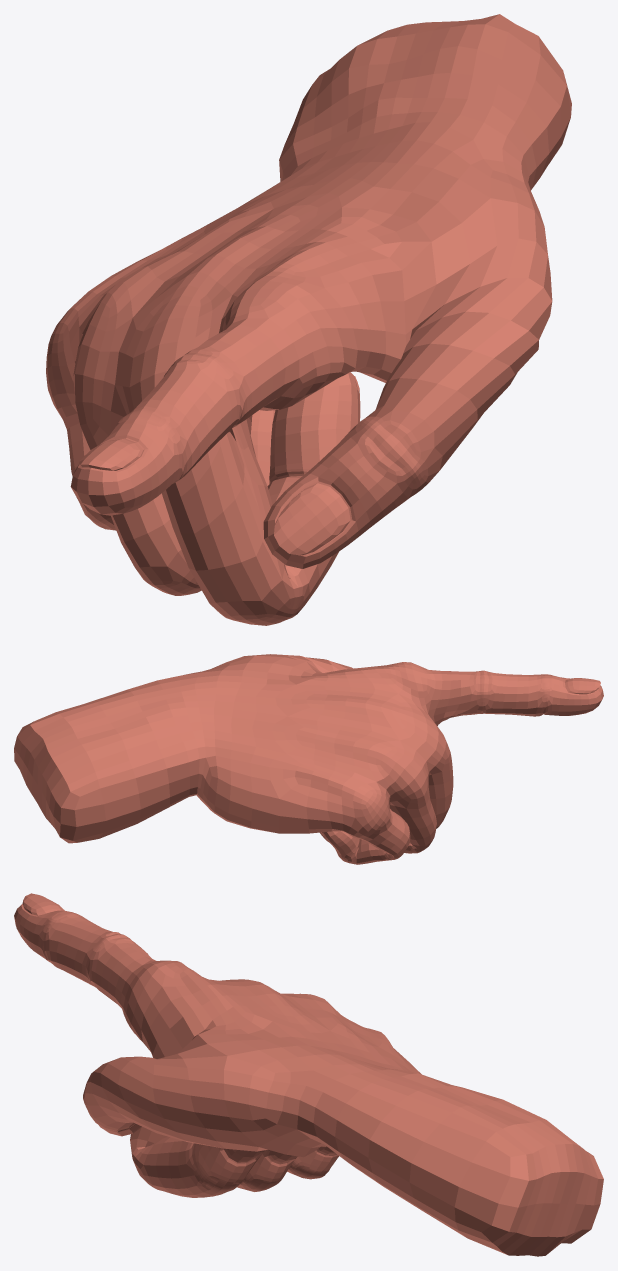
Rendered from zah.glb.
3 renders of one model, top to bottom at view 1: azimuth 30°, elevation 25°; view 2: azimuth 150°, elevation 25°; view 3: azimuth 270°, elevation 25°, orthographic. The views are drawn at different scales.
Visible parts, largest first — view 1: ZBrushPolyMesh3D; view 2: ZBrushPolyMesh3D; view 3: ZBrushPolyMesh3D.
Part boxes in pixels (left/top/right/bottom): ZBrushPolyMesh3D: left=46, top=14, right=571, bottom=625; ZBrushPolyMesh3D: left=14, top=654, right=603, bottom=864; ZBrushPolyMesh3D: left=14, top=893, right=603, bottom=1256.
Size of the model in its own units: 4.16 by 1.62 by 3.78.
